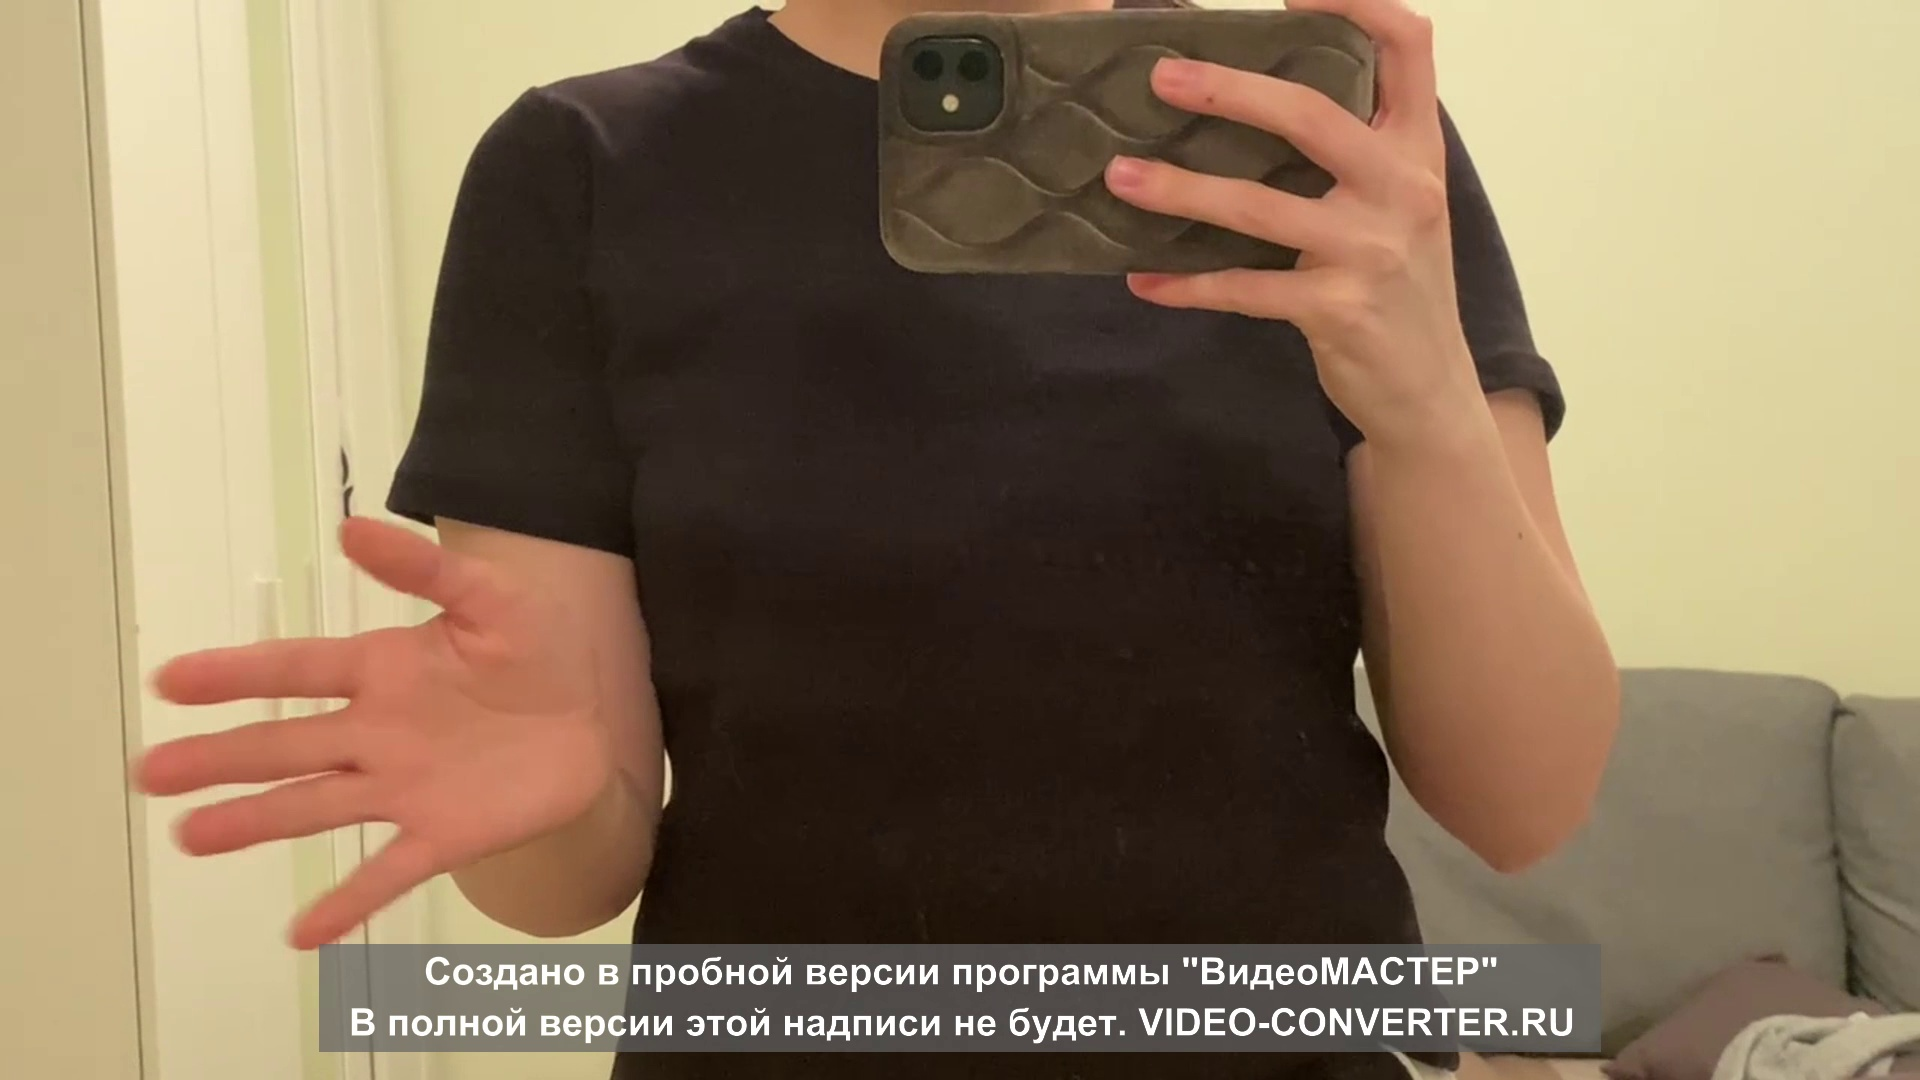Ладонь: (129, 512, 616, 935)
